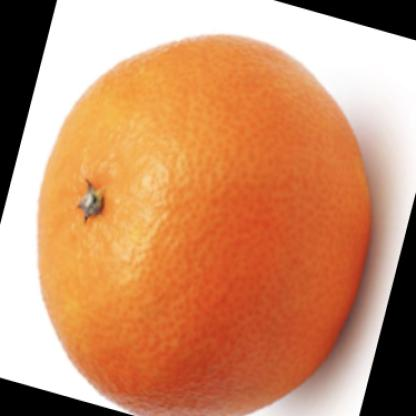fresh: (40, 33, 371, 416)
